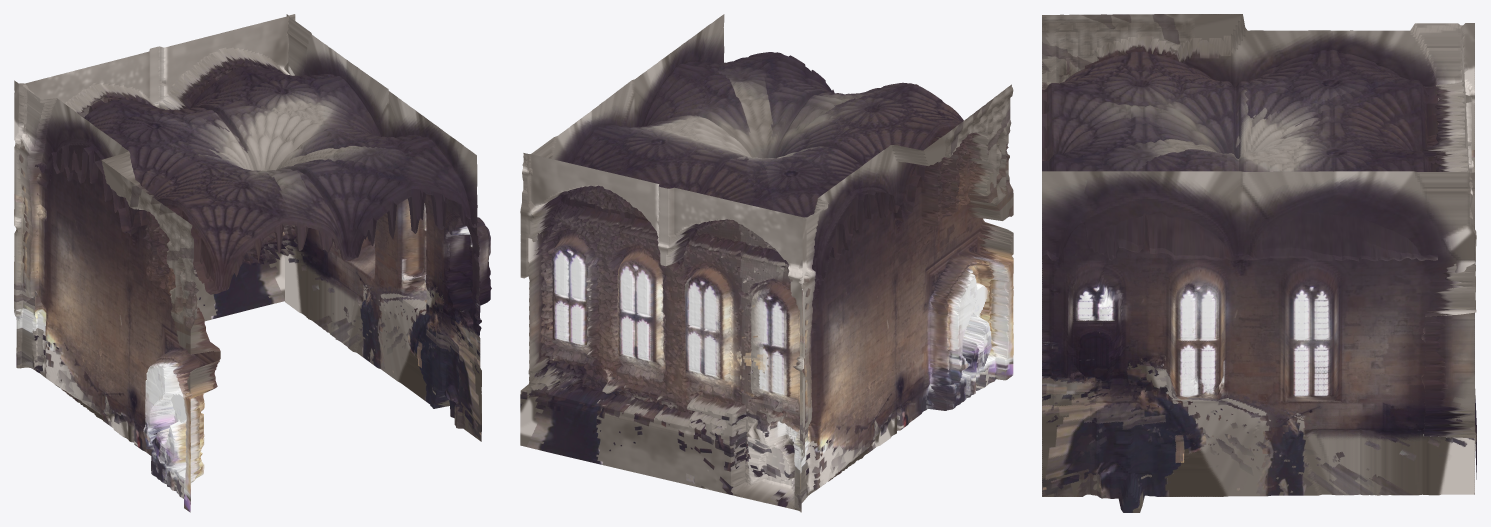
The model's file is game-enclosure.glb.
3 views of the same model, side by side, from view 1: azimuth 30°, elevation 25°; view 2: azimuth 150°, elevation 25°; view 3: azimuth 270°, elevation 25° (orthographic). The views are drawn at different scales.
Parts seen in each view (by area): view 1: Christ Church staircase enclosure; view 2: Christ Church staircase enclosure; view 3: Christ Church staircase enclosure.
Boxes of the visible parts, x1,y1,x2,y2 form: Christ Church staircase enclosure: (14, 14, 491, 512); Christ Church staircase enclosure: (520, 14, 1013, 512); Christ Church staircase enclosure: (1042, 14, 1476, 512).
Size of the model in its own units: 15.85 by 13.6 by 16.58.
4 materials, 4 textured.
